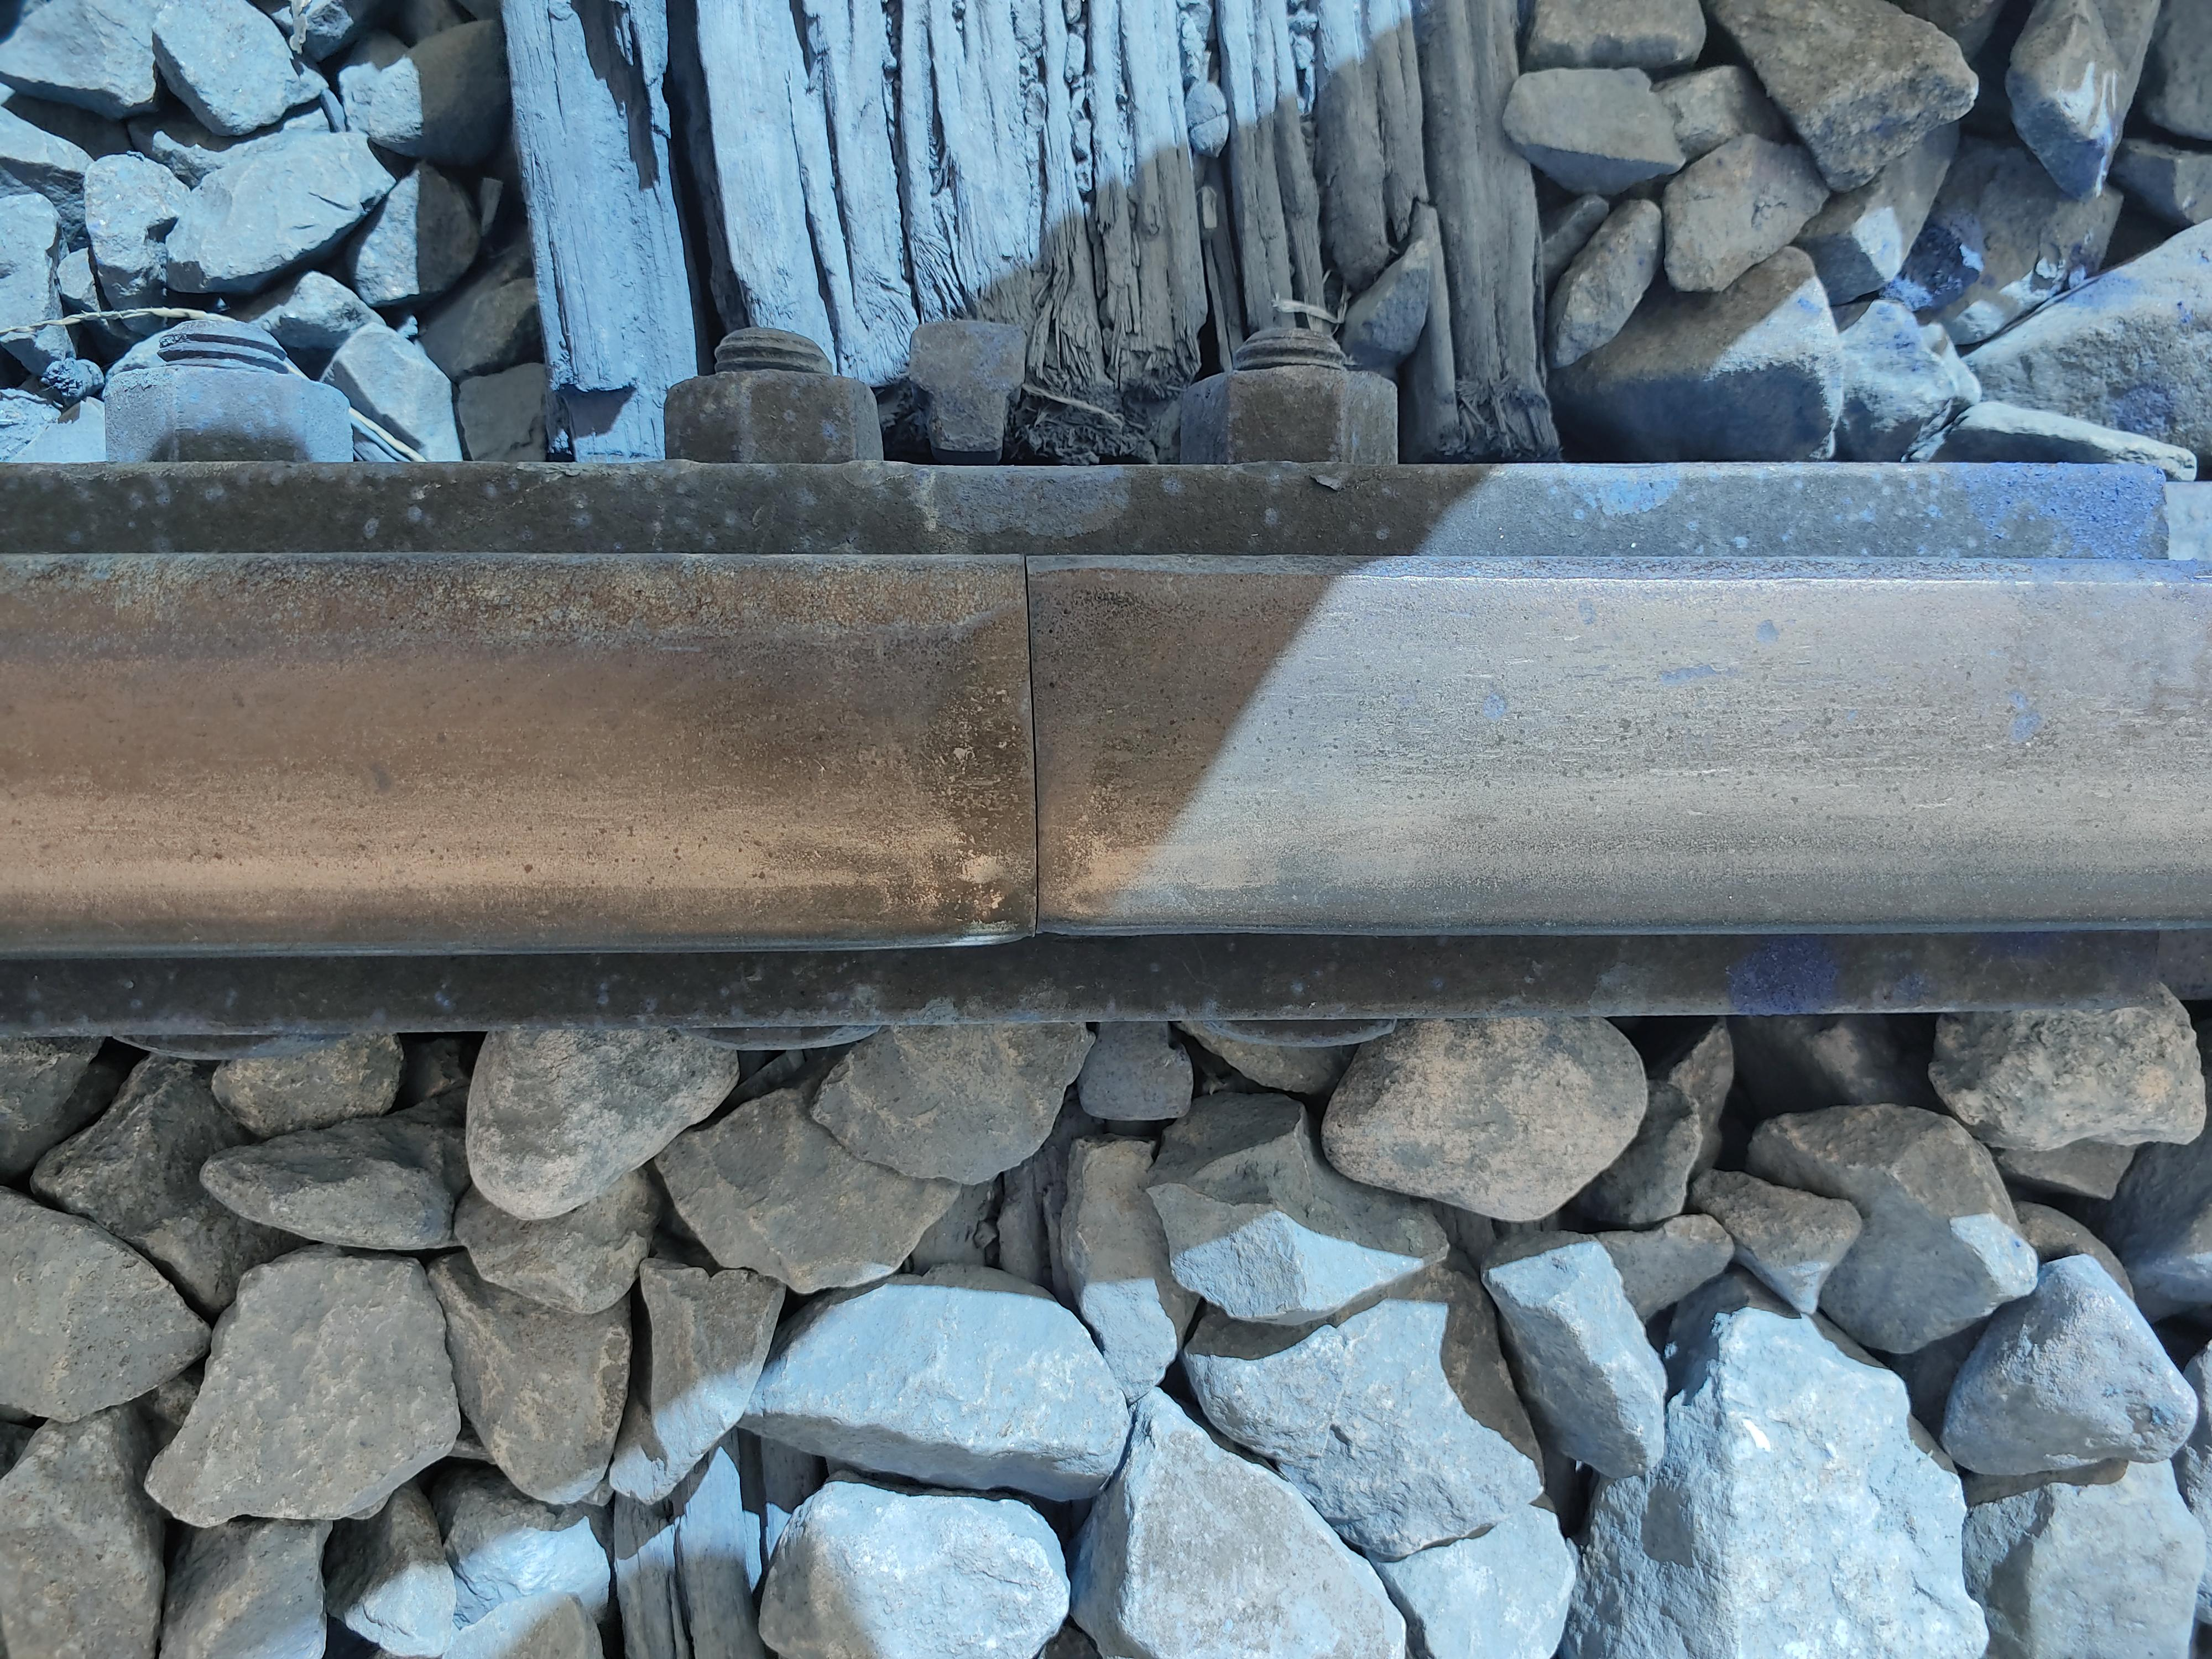error2: (900, 495, 1170, 1025)
